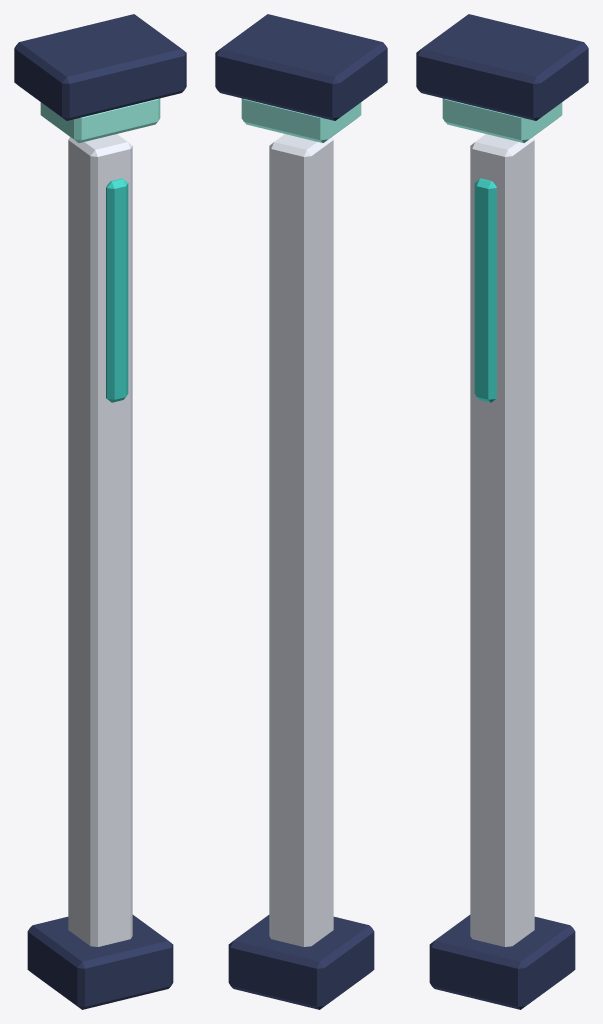
File: pylon.glb
The picture shows the model from 3 angles, left to right: view 1: azimuth 30°, elevation 25°; view 2: azimuth 150°, elevation 25°; view 3: azimuth 330°, elevation 25°; orthographic projection.
Visible parts, largest first — view 1: tower, lantern, foot, light, lantern core; view 2: tower, lantern, foot, lantern core; view 3: tower, lantern, foot, light, lantern core.
Part boxes in pixels (box(x1,y1,x2,y2)): tower: box(68, 134, 132, 946); lantern: box(14, 14, 186, 120); foot: box(27, 915, 173, 1009); light: box(106, 178, 128, 402); lantern core: box(40, 98, 160, 142); tower: box(269, 134, 333, 946); lantern: box(215, 14, 387, 120); foot: box(228, 915, 374, 1009); lantern core: box(241, 98, 361, 142); tower: box(470, 134, 534, 946); lantern: box(416, 14, 588, 120); foot: box(429, 915, 575, 1009); light: box(474, 178, 496, 402); lantern core: box(442, 98, 562, 142).
Bounding box in the file's own units: 0.65 × 4.66 × 0.5.
